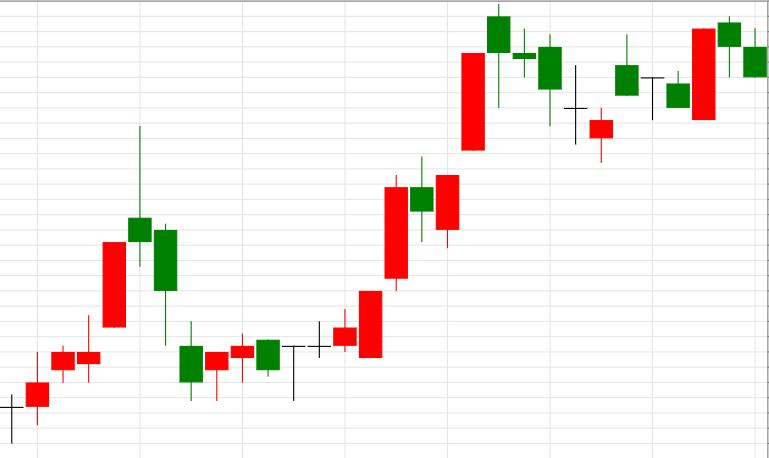shooting_star_fall: (0, 126, 151, 444)
